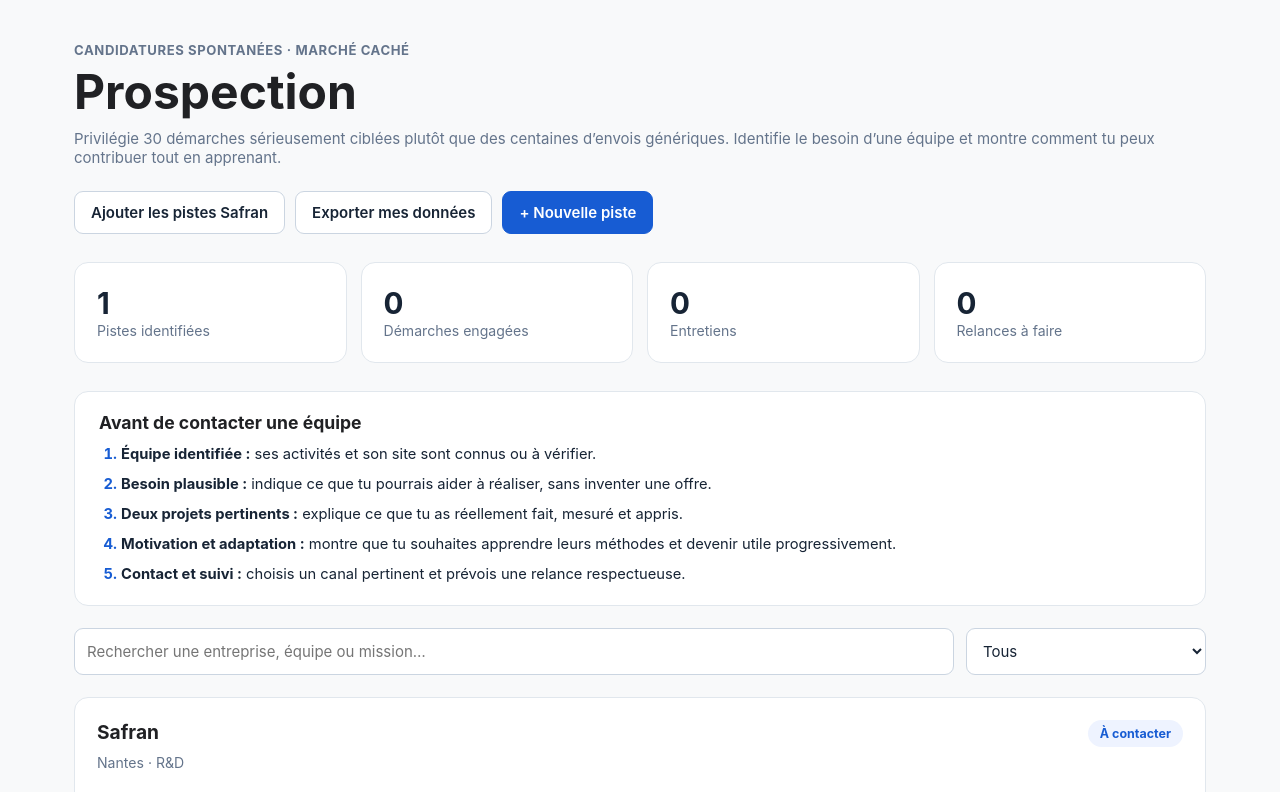
Test: ProspectionPage › filters a locally saved lead by keyword
The width and height of the screenshot is (1280, 792).
Step 1. Type "Airbus" into the field named "Rechercher une piste" → (514, 652), box [74,628,954,675]
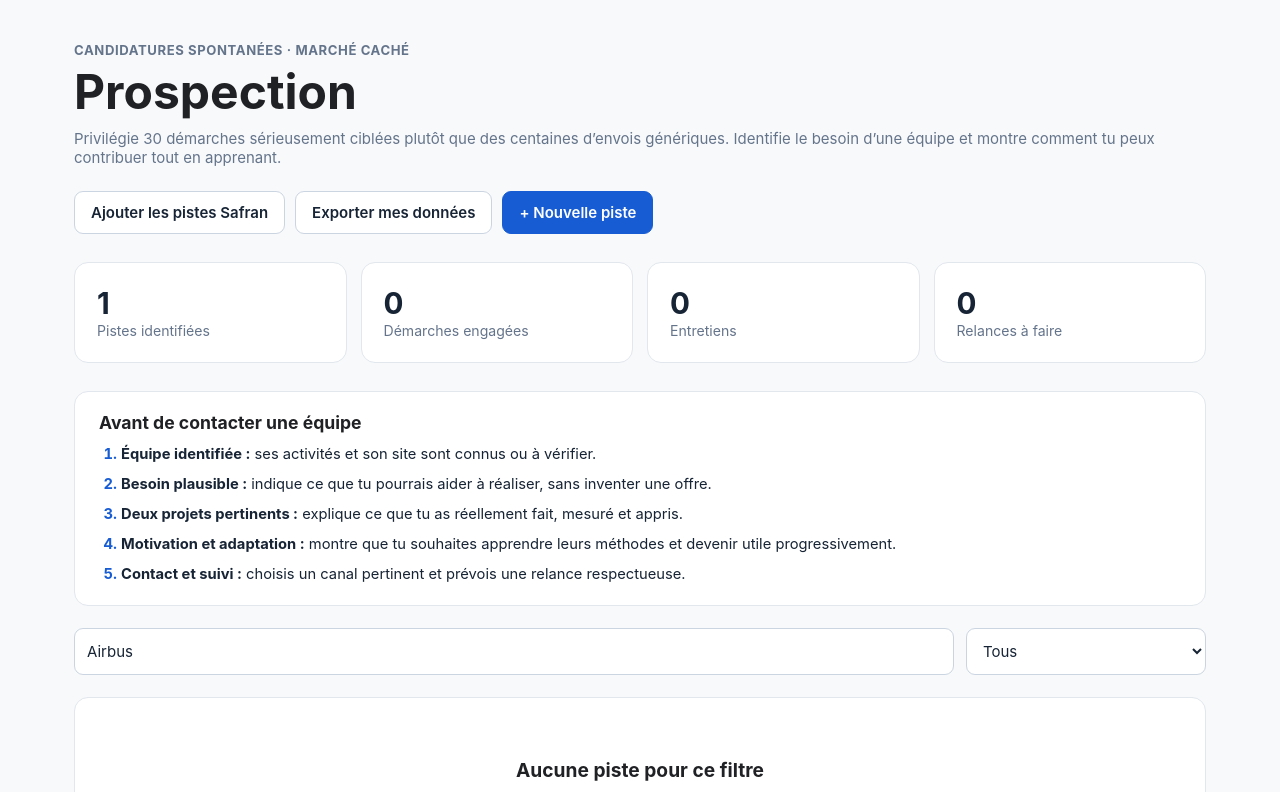
Now the heading "Aucune piste pour ce filtre" is shown, box [516,758,764,782]
Step 2. Replace the text in the field named "Rechercher une piste" with "Safran" → (514, 652), box [74,628,954,675]
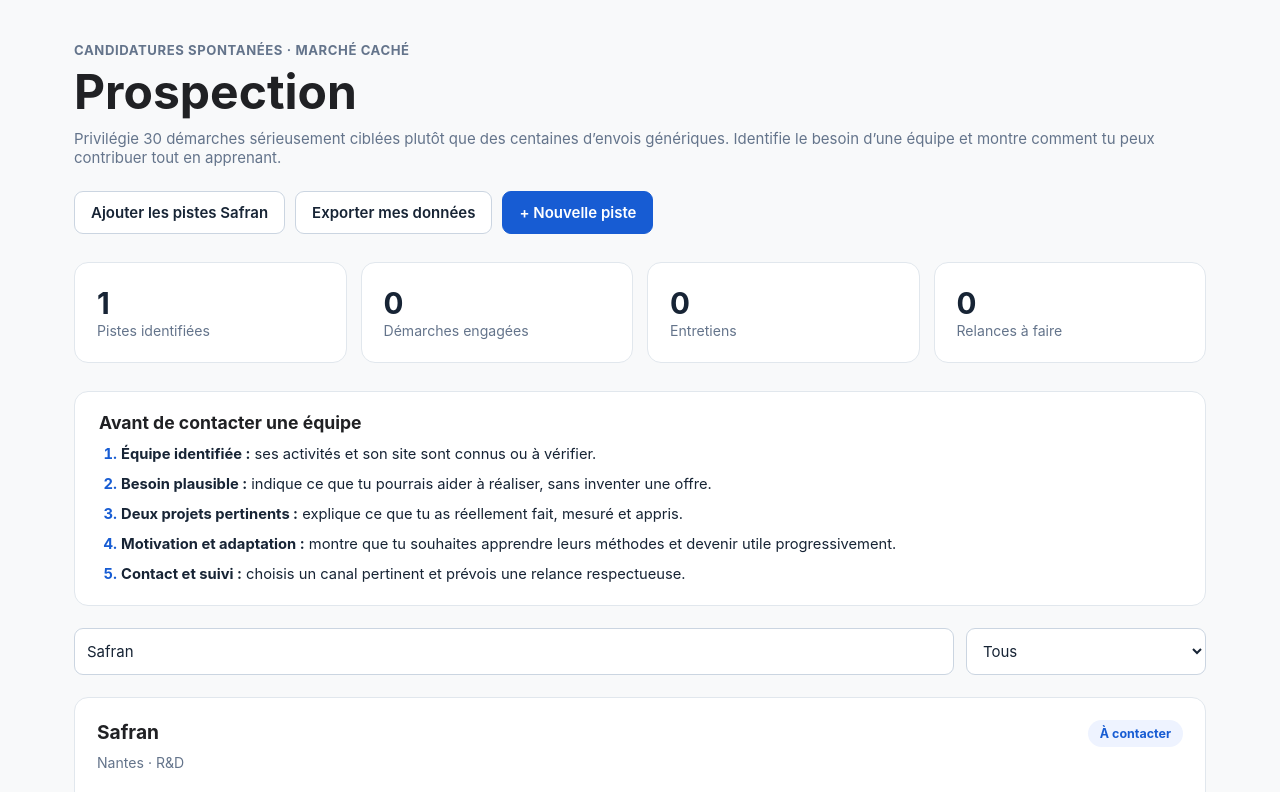
Now the heading "Safran" is shown, box [97,720,159,744]
